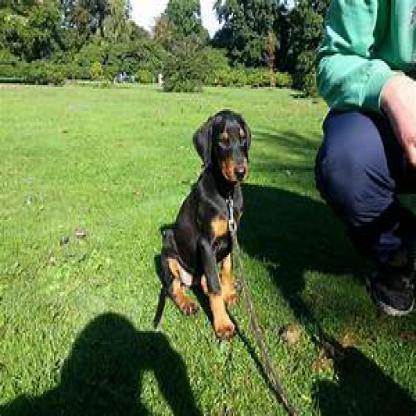dog: (155, 107, 251, 337)
